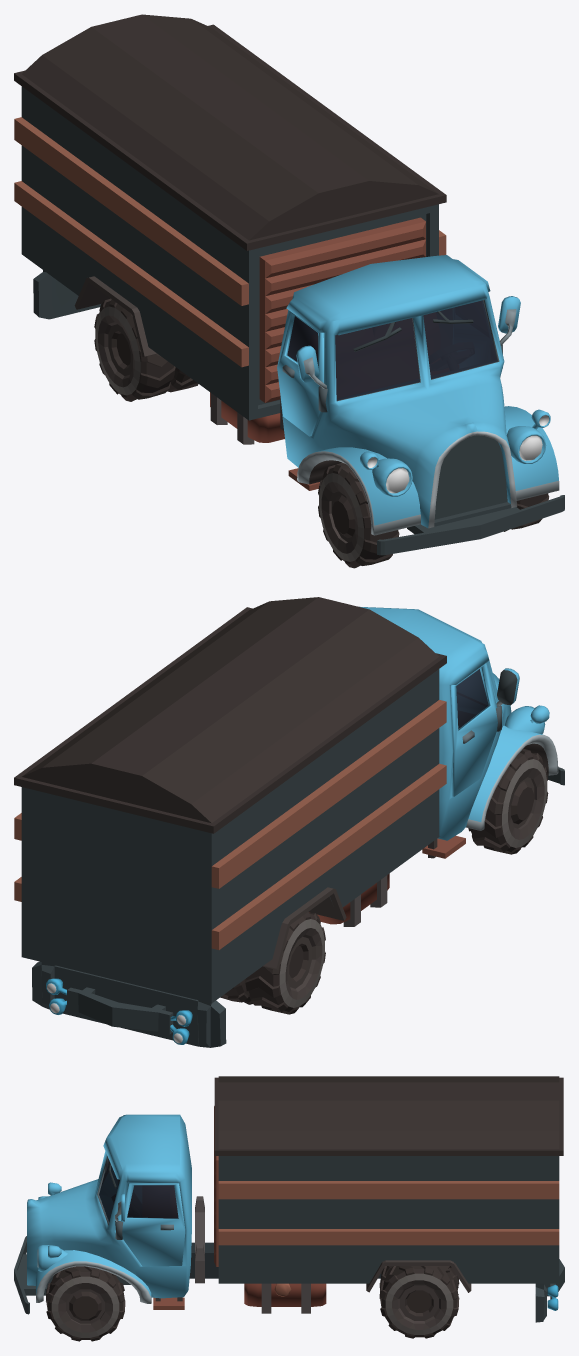
The model's file is Camion.fbx.
3 renders of one model, top to bottom at view 1: azimuth 30°, elevation 25°; view 2: azimuth 150°, elevation 25°; view 3: azimuth 270°, elevation 25°, orthographic. The views are drawn at different scales.
Parts seen in each view (by area): view 1: Truck_Trailer3.001, Truck_body.003, Truck_Engine.003, Truck_Wheel_Back.003, Truck_Wheel_Front.right.003, Truck_Door.right.003, TruckModule_OilTank.003, Truck_Bumper.003, Truck_WheelCover.003; view 2: Truck_Trailer3.001, Truck_body.003, Truck_Bumper.003, Truck_Wheel_Back.003, Truck_Wheel_Front.right.003, Truck_Door.right.003, Truck_WheelCover.003, TruckModule_OilTank.003; view 3: Truck_Trailer3.001, Truck_body.003, Truck_Wheel_Back.003, Truck_Wheel_Front.left.003, Truck_Door.left.003, TruckModule_OilTank.003, Truck_Chassy_Short.003, Truck_Bumper.003, Truck_Engine.003, Truck_WheelCover.003.
Boxes of the visible parts, bbox=[...] form: Truck_Trailer3.001: bbox=[14, 14, 446, 420]; Truck_body.003: bbox=[280, 255, 559, 535]; Truck_Engine.003: bbox=[377, 435, 564, 555]; Truck_Wheel_Back.003: bbox=[94, 298, 198, 401]; Truck_Wheel_Front.right.003: bbox=[318, 462, 399, 568]; Truck_Door.right.003: bbox=[277, 310, 323, 436]; TruckModule_OilTank.003: bbox=[210, 392, 284, 444]; Truck_Bumper.003: bbox=[33, 270, 100, 319]; Truck_WheelCover.003: bbox=[74, 276, 157, 357]; Truck_Trailer3.001: bbox=[14, 597, 446, 1003]; Truck_body.003: bbox=[359, 606, 558, 858]; Truck_Bumper.003: bbox=[32, 961, 226, 1047]; Truck_Wheel_Back.003: bbox=[220, 912, 325, 1014]; Truck_Wheel_Front.right.003: bbox=[468, 748, 548, 854]; Truck_Door.right.003: bbox=[450, 663, 497, 796]; Truck_WheelCover.003: bbox=[263, 887, 346, 969]; TruckModule_OilTank.003: bbox=[309, 873, 389, 926]; Truck_Trailer3.001: bbox=[214, 1076, 563, 1283]; Truck_body.003: bbox=[27, 1114, 191, 1309]; Truck_Wheel_Back.003: bbox=[379, 1266, 459, 1338]; Truck_Wheel_Front.left.003: bbox=[46, 1266, 125, 1341]; Truck_Door.left.003: bbox=[121, 1183, 185, 1266]; TruckModule_OilTank.003: bbox=[244, 1283, 326, 1313]; Truck_Chassy_Short.003: bbox=[189, 1196, 381, 1283]; Truck_Bumper.003: bbox=[535, 1259, 564, 1322]; Truck_Engine.003: bbox=[14, 1236, 130, 1314]; Truck_WheelCover.003: bbox=[366, 1260, 471, 1292].
Bounding box in the file's own units: 506 × 634 × 1453.
4 materials, 2 textured.
